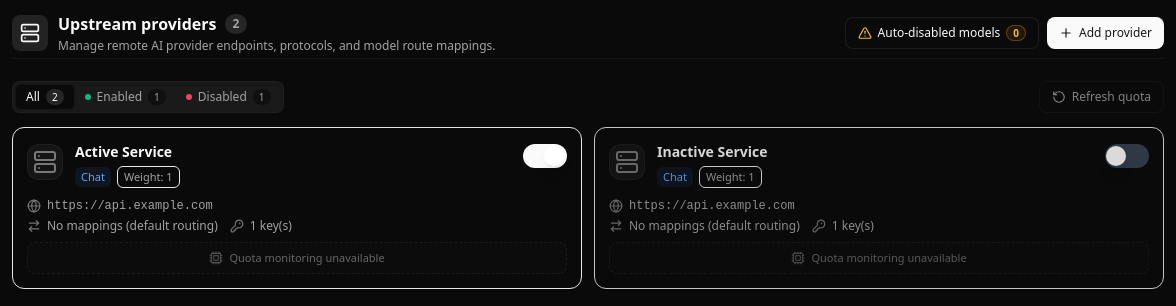
Test: UpstreamProviderList 状态展示与过滤 › 切换到已启用过滤条件时只显示已启用的服务商
Expected: the button "Active Service" is shown, [75, 142, 511, 162]
Expected: the button "Inactive Service" is shown, [657, 142, 1093, 162]
Click the button with test id "filter-status-enabled" at (125, 97), box [75, 85, 176, 109]
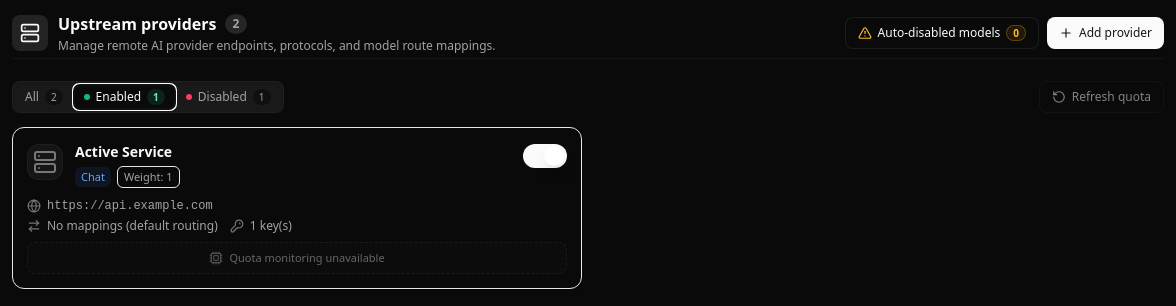
Expected: the button "Active Service" is shown, [75, 142, 511, 162]
Expected: the button "Inactive Service" is gone
